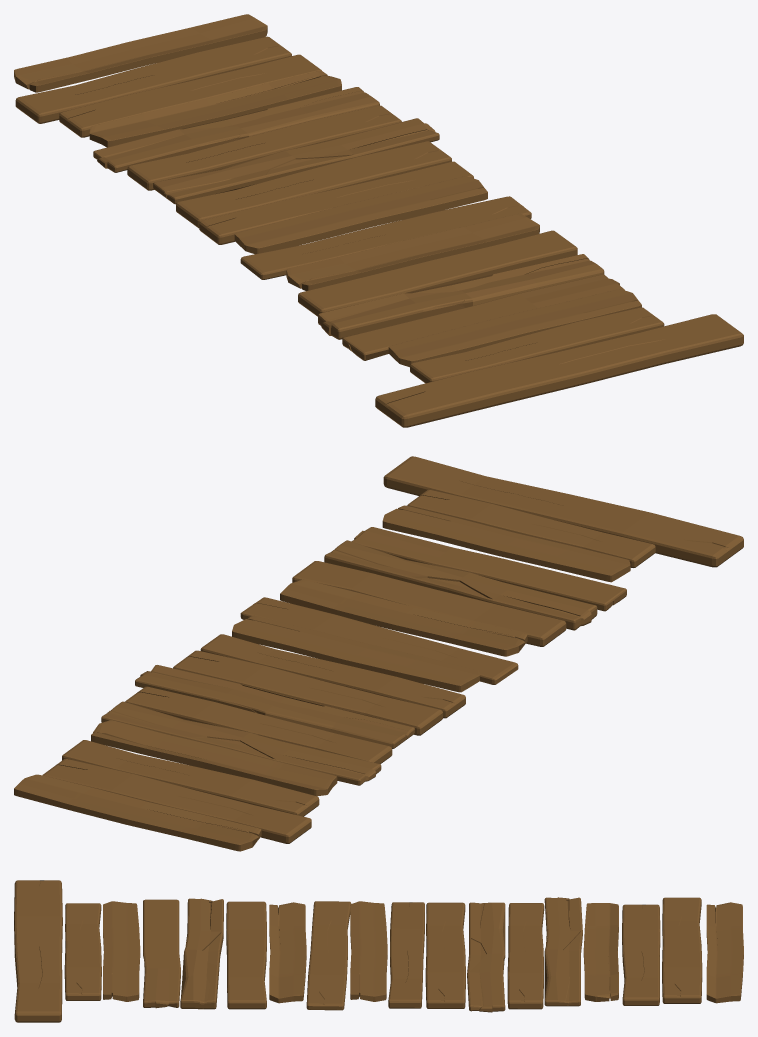
Rendered from dock_previz_v2.glb.
3 views of the same model, one above another, from view 1: azimuth 30°, elevation 25°; view 2: azimuth 150°, elevation 25°; view 3: azimuth 270°, elevation 25° (orthographic). The views are drawn at different scales.
Parts seen in each view (by area): view 1: Cube080_8, Cube080_1, Cube080_7, Cube080, Cube080_9, Cube080_3, Cube080_4, Cube080_2, Cube080_6, Cube080_5; view 2: Cube080_8, Cube080, Cube080_4, Cube080_3, Cube080_6, Cube080_1, Cube080_7, Cube080_5, Cube080_2, Cube080_9; view 3: Cube080_8, Cube080_1, Cube080_3, Cube080_9, Cube080_5, Cube080, Cube080_4, Cube080_7, Cube080_6, Cube080_2.
Part boxes in pixels (<box>): Cube080_8: <box>15,36,743,427</box>; Cube080_1: <box>318,254,604,339</box>; Cube080_7: <box>234,176,487,254</box>; Cube080: <box>14,14,267,92</box>; Cube080_9: <box>93,87,379,172</box>; Cube080_3: <box>153,118,439,204</box>; Cube080_4: <box>286,213,539,290</box>; Cube080_2: <box>89,70,341,147</box>; Cube080_6: <box>388,289,641,367</box>; Cube080_5: <box>342,274,624,360</box>; Cube080_8: <box>42,456,743,843</box>; Cube080: <box>14,774,261,851</box>; Cube080_4: <box>280,579,527,656</box>; Cube080_3: <box>135,665,414,748</box>; Cube080_6: <box>382,505,630,582</box>; Cube080_1: <box>324,540,597,630</box>; Cube080_7: <box>232,615,479,692</box>; Cube080_5: <box>351,527,626,611</box>; Cube080_2: <box>91,720,337,796</box>; Cube080_9: <box>101,701,381,785</box>; Cube080_8: <box>14,880,702,1022</box>; Cube080_1: <box>180,898,223,1009</box>; Cube080_3: <box>467,902,505,1012</box>; Cube080_9: <box>544,897,582,1006</box>; Cube080_5: <box>143,899,180,1008</box>; Cube080: <box>706,902,743,1003</box>; Cube080_4: <box>269,902,306,1003</box>; Cube080_7: <box>350,901,387,1001</box>; Cube080_6: <box>103,901,140,1001</box>; Cube080_2: <box>583,903,618,1001</box>.
Bounding box in the file's own units: 3.26 × 0.145 × 7.49.
